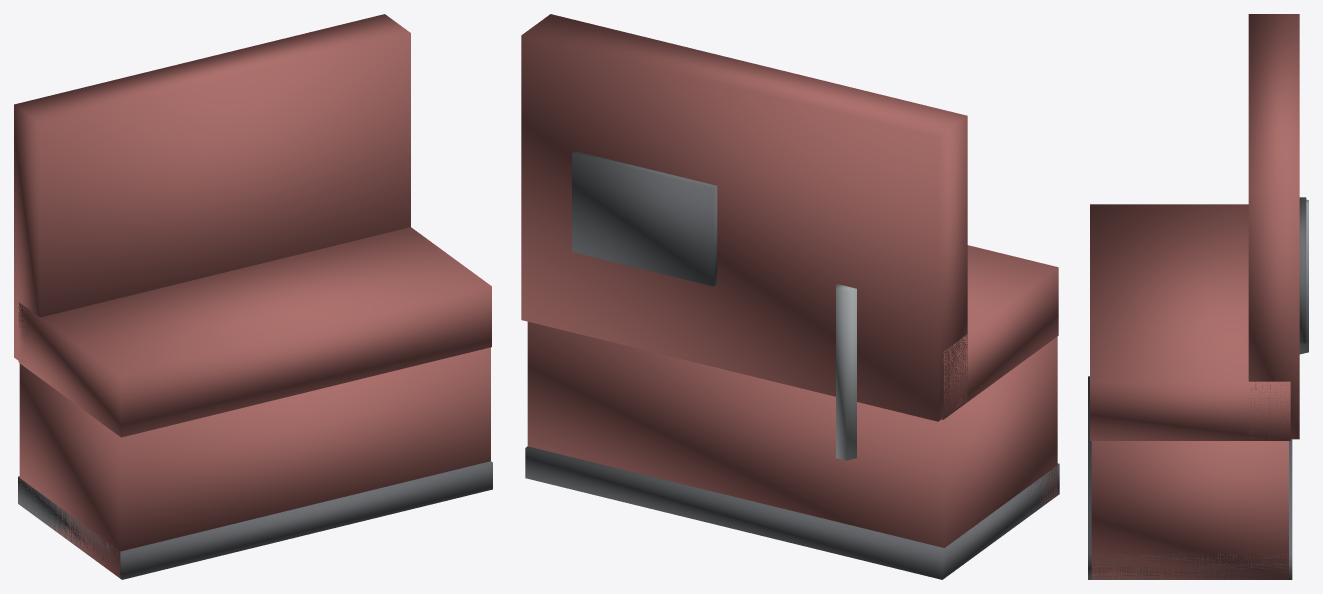
The model's file is diner_booth_single__service.glb.
The picture shows the model from 3 angles, left to right: view 1: azimuth 30°, elevation 25°; view 2: azimuth 150°, elevation 25°; view 3: azimuth 270°, elevation 25°; orthographic projection. The views are drawn at different scales.
Parts seen in each view (by area): view 1: world; view 2: world; view 3: world.
Boxes of the visible parts, left/top/right/bottom form: world: left=14, top=14, right=492, bottom=579; world: left=521, top=14, right=1059, bottom=579; world: left=1088, top=14, right=1308, bottom=579.
Size of the model in its own units: 1.15 by 1.17 by 0.6049.
